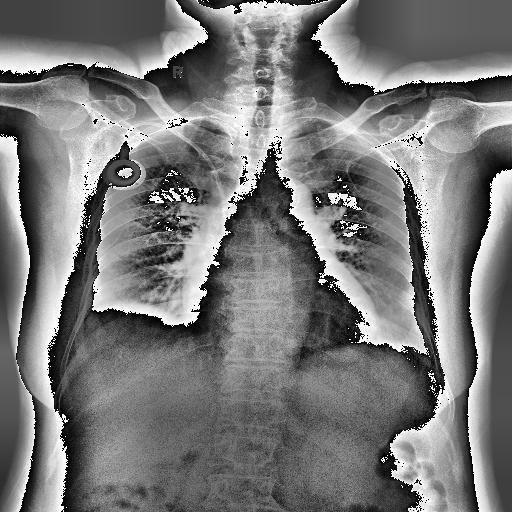0- Aortic enlargement: (260, 176, 312, 214)
3- Cardiomegaly: (186, 248, 383, 342), (178, 274, 382, 344), (178, 267, 378, 334)
